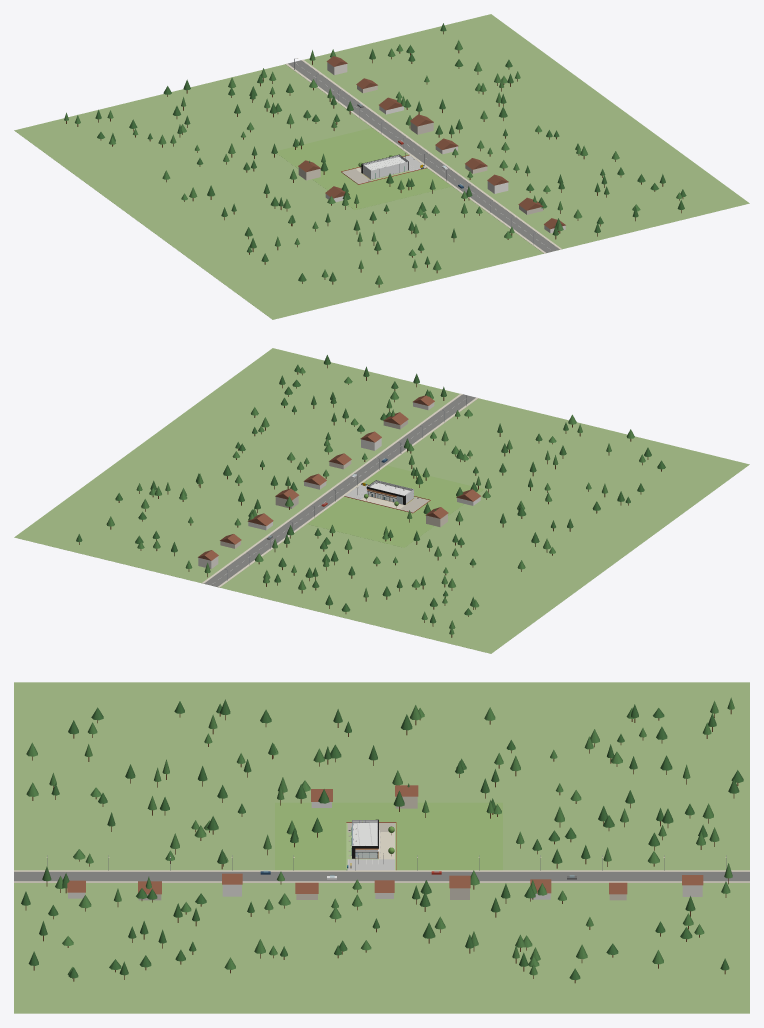
File: modelo.glb
3 renders of one model, top to bottom at view 1: azimuth 30°, elevation 25°; view 2: azimuth 150°, elevation 25°; view 3: azimuth 270°, elevation 25°, orthographic. The views are drawn at different scales.
Visible parts, largest first — view 1: ter, muro; view 2: ter, ext; view 3: ter, ext, techo.
Boxes of the visible parts, bbox=[...] form: ter: bbox=[14, 14, 749, 319]; muro: bbox=[363, 155, 408, 179]; ter: bbox=[14, 348, 749, 653]; ext: bbox=[345, 484, 429, 512]; ter: bbox=[14, 682, 749, 1013]; ext: bbox=[347, 823, 394, 870]; techo: bbox=[352, 822, 377, 845].
Bounding box in the file's own units: 330 × 11.71 × 310.
